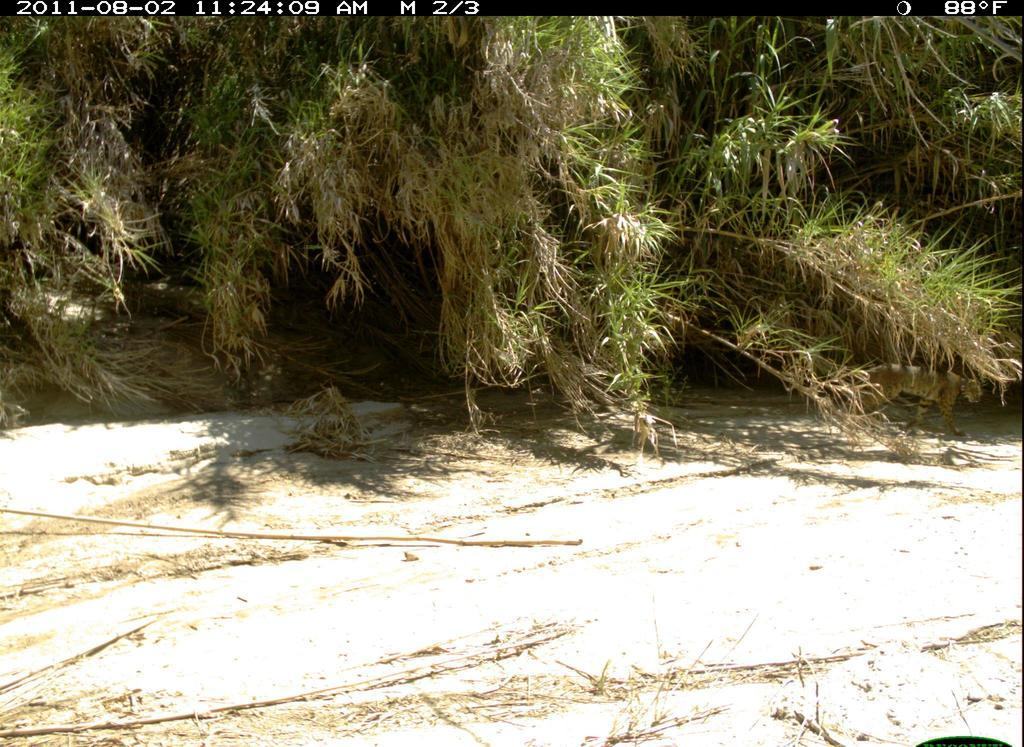bobcat: (822, 346, 994, 440)
